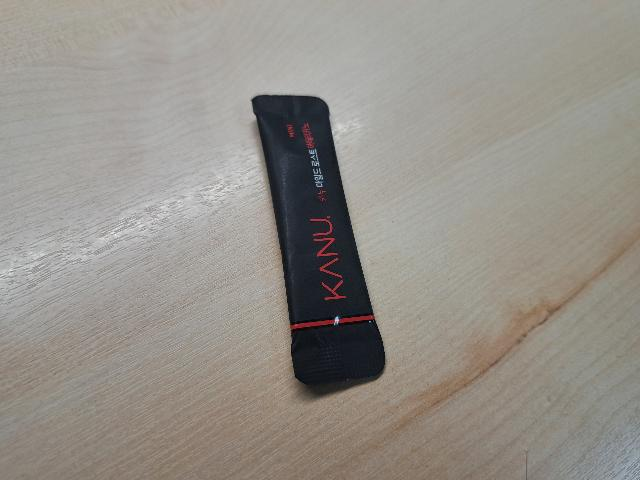KANU: (233, 75, 403, 411)
